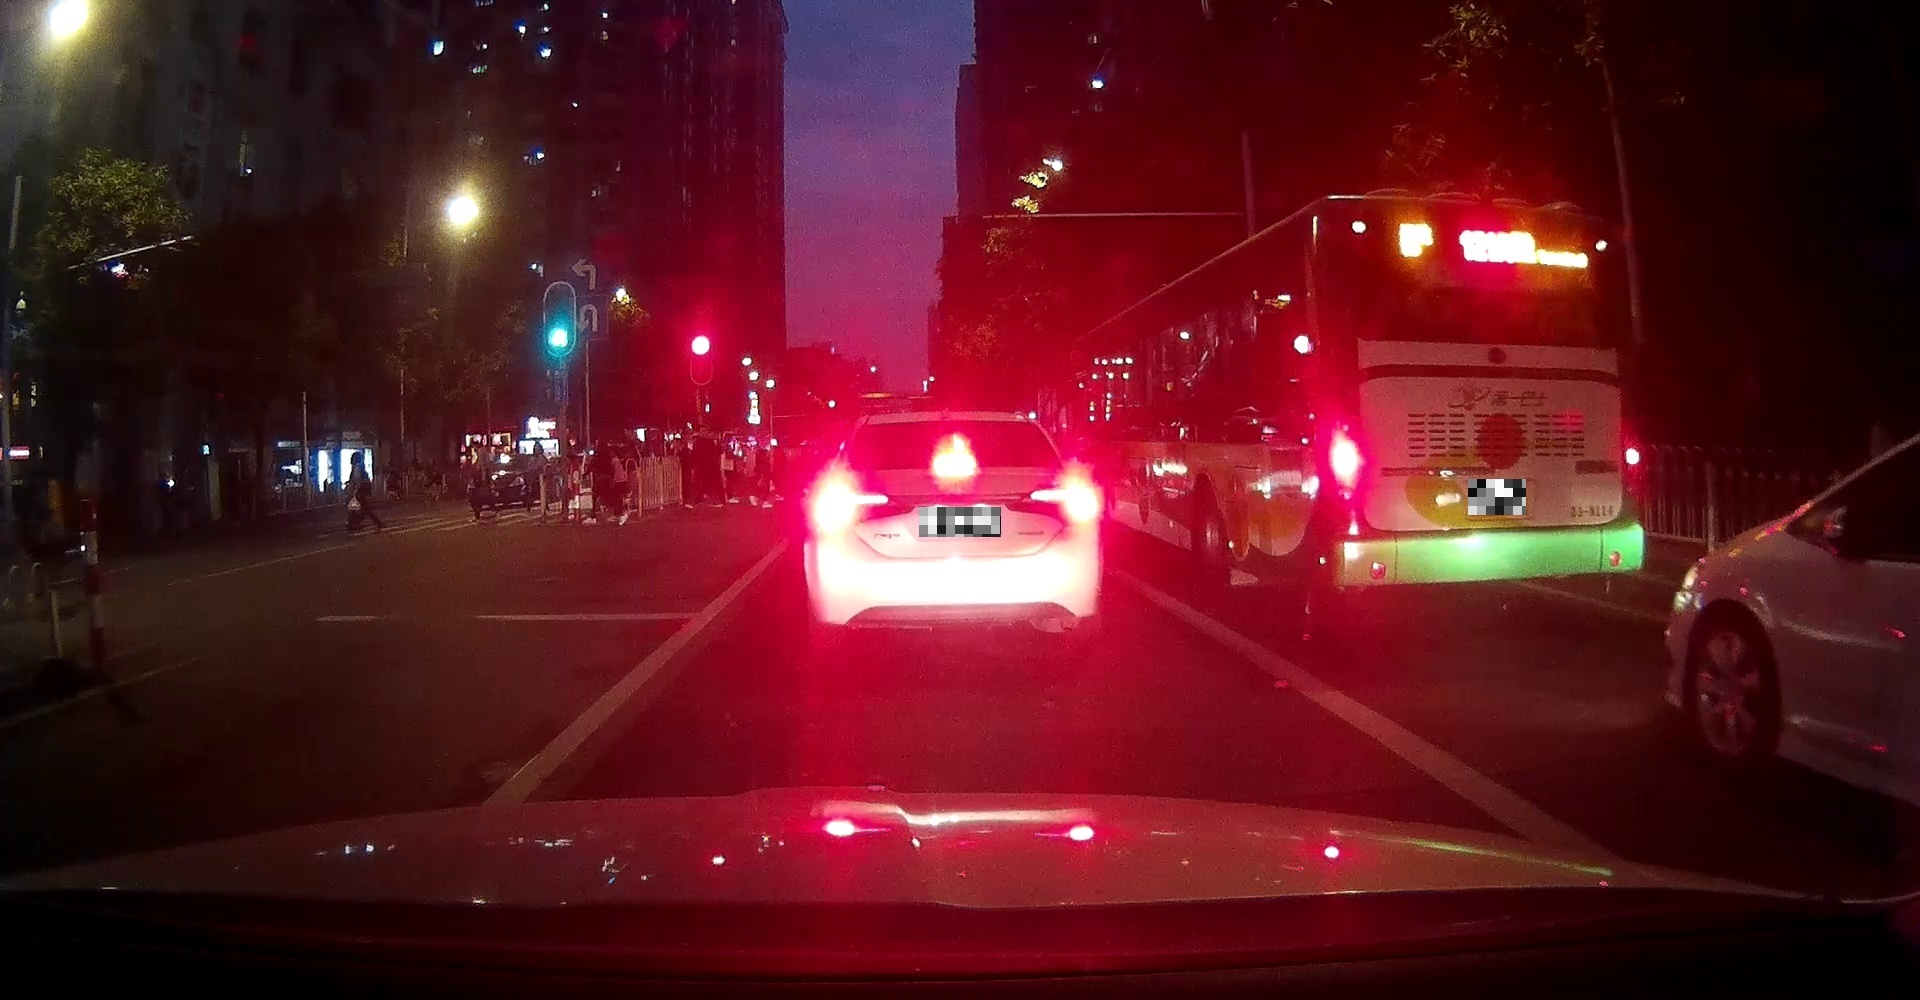L_light: (806, 472, 888, 539), (1330, 430, 1364, 486)
R_light: (1030, 470, 1098, 524), (1624, 434, 1642, 477)
T_light: (932, 437, 977, 478), (1470, 214, 1512, 228)
night-brake: (803, 412, 1098, 662)
night-left: (1326, 194, 1644, 589)
plate_1: (919, 508, 1001, 537)
plate_2: (1468, 478, 1526, 515)
